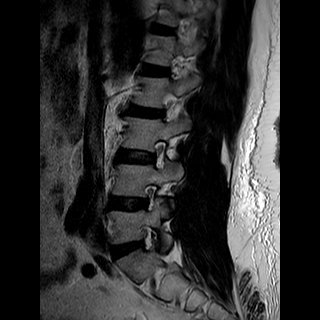RFS0: (130, 219, 163, 257), (145, 133, 172, 174), (137, 179, 161, 216)
